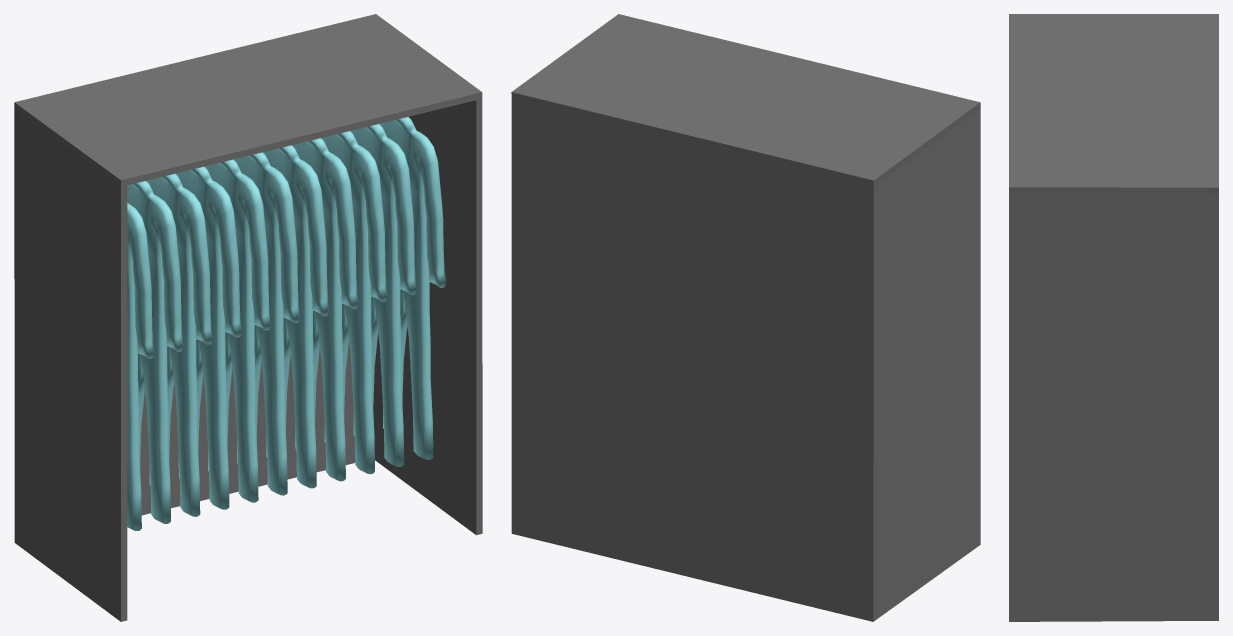
The model's file is gowning_rack.fbx.
The picture shows the model from 3 angles, left to right: view 1: azimuth 30°, elevation 25°; view 2: azimuth 150°, elevation 25°; view 3: azimuth 270°, elevation 25°; orthographic projection.
Parts seen in each view (by area): view 1: Cylinder, NurbsPath; view 2: Cylinder; view 3: Cylinder.
Part boxes in pixels (x1=…): Cylinder: x1=14, y1=14, x2=482, y2=621; NurbsPath: x1=127, y1=117, x2=445, y2=530; Cylinder: x1=511, y1=14, x2=980, y2=621; Cylinder: x1=1009, y1=14, x2=1218, y2=621.
Bounding box in the file's own units: 167 × 195 × 85.48.
